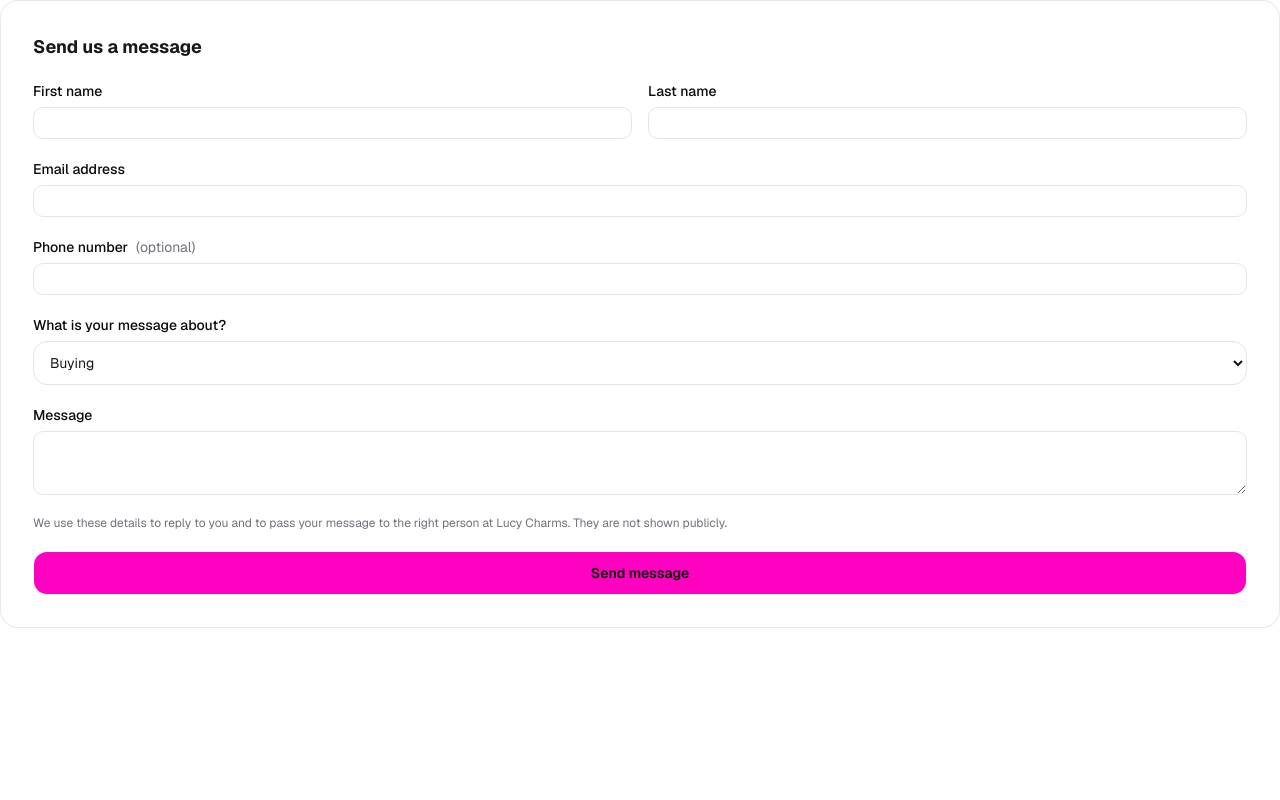
a duplicate submission says so instead of implying a second request
The image size is (1280, 800).
Type "Dana" into the field labelled "First name" at (332, 123), box [33,107,632,139]
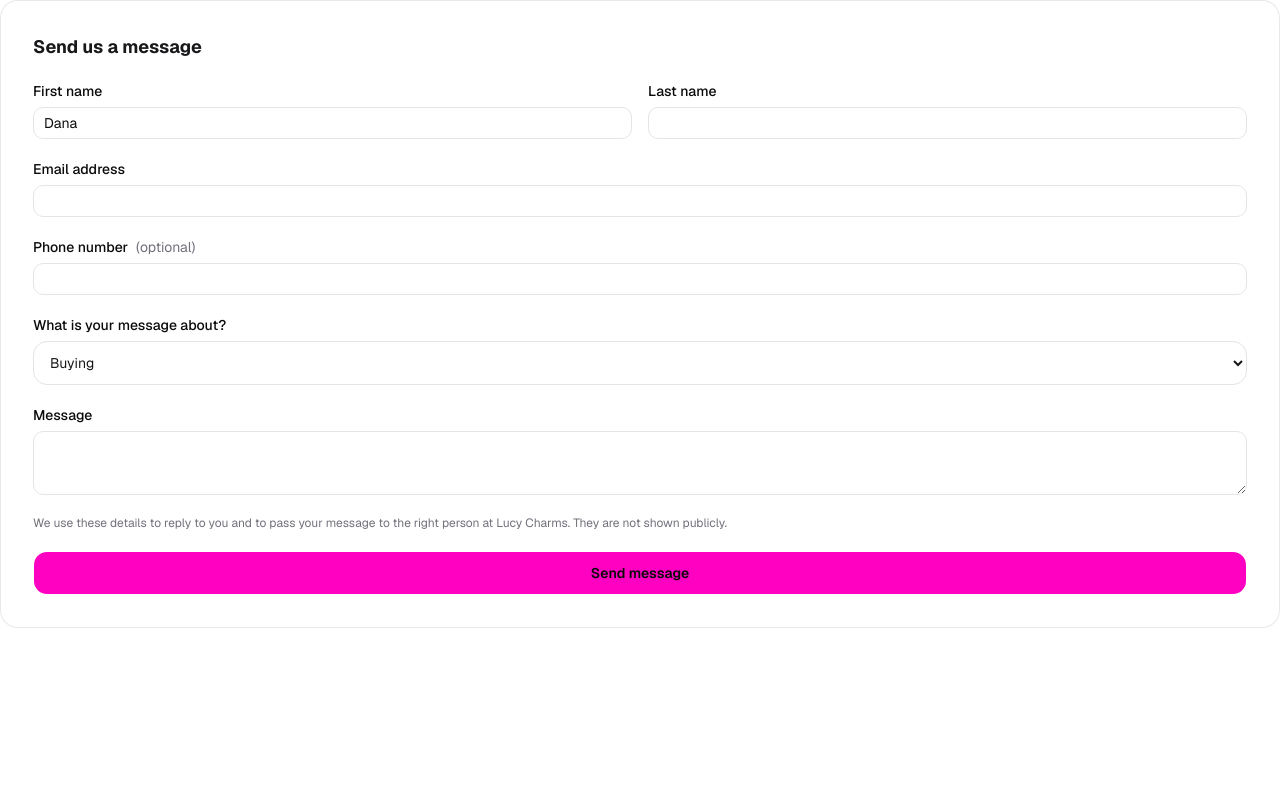
Type "Okafor" into the field labelled "Last name" at (948, 123), box [648,107,1247,139]
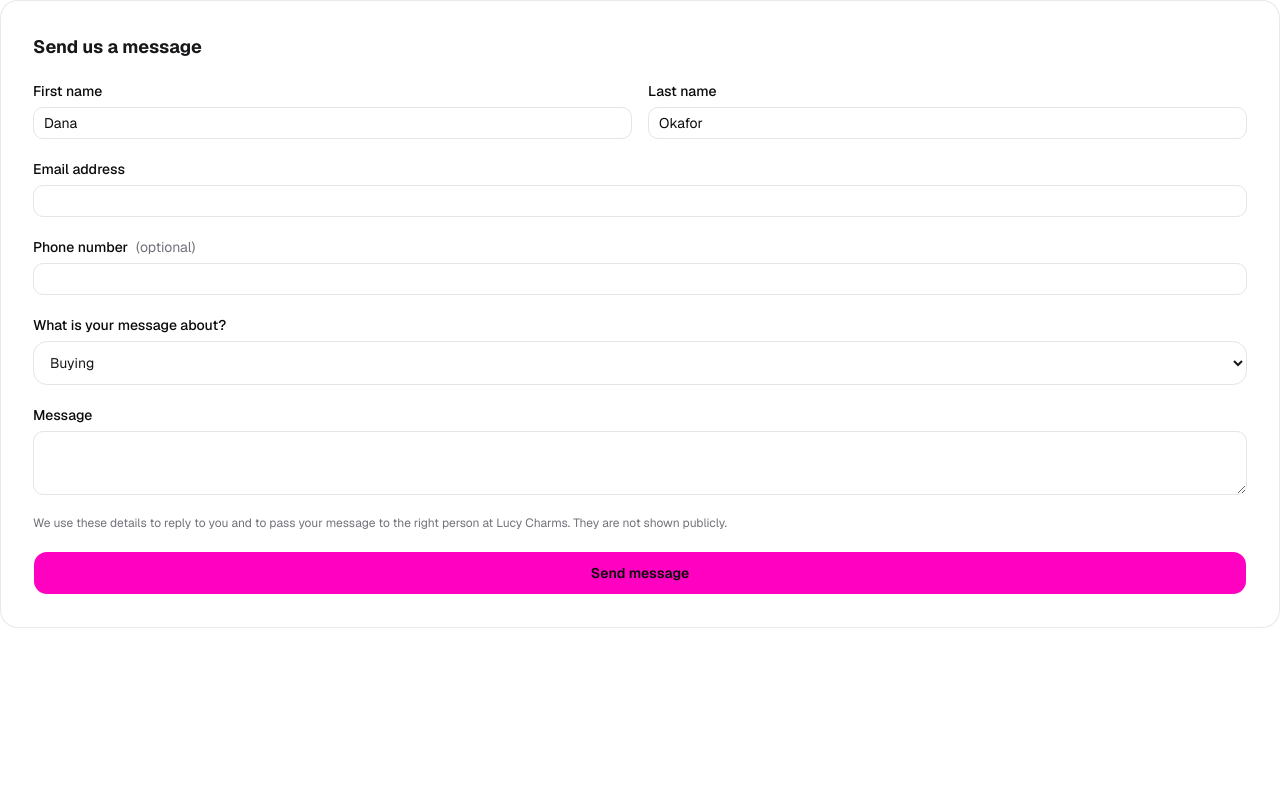
Type "dana.okafor@example.com" into the field labelled "Email address" at (640, 201), box [33,185,1247,217]
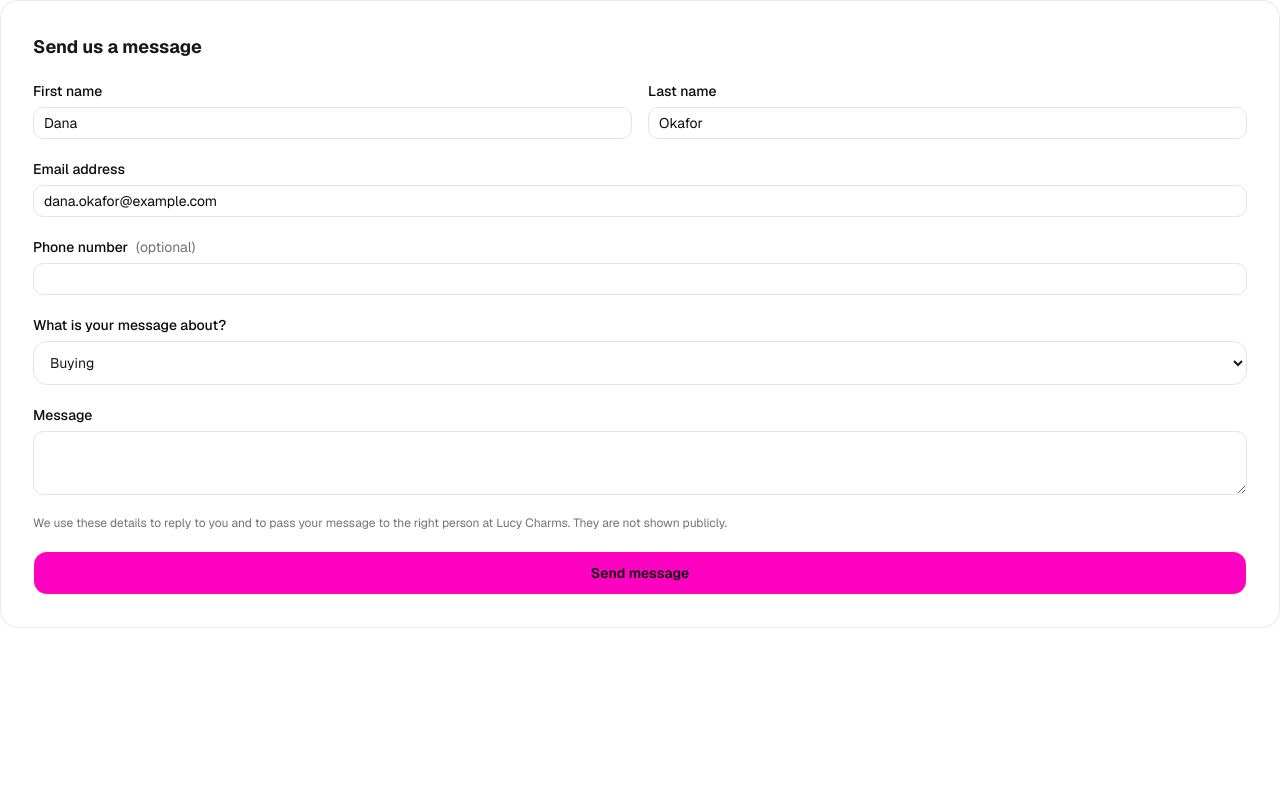
Type "I would like to know more about buying in Ottawa." into the text box labelled "Message" at (640, 463), box [33,431,1247,495]
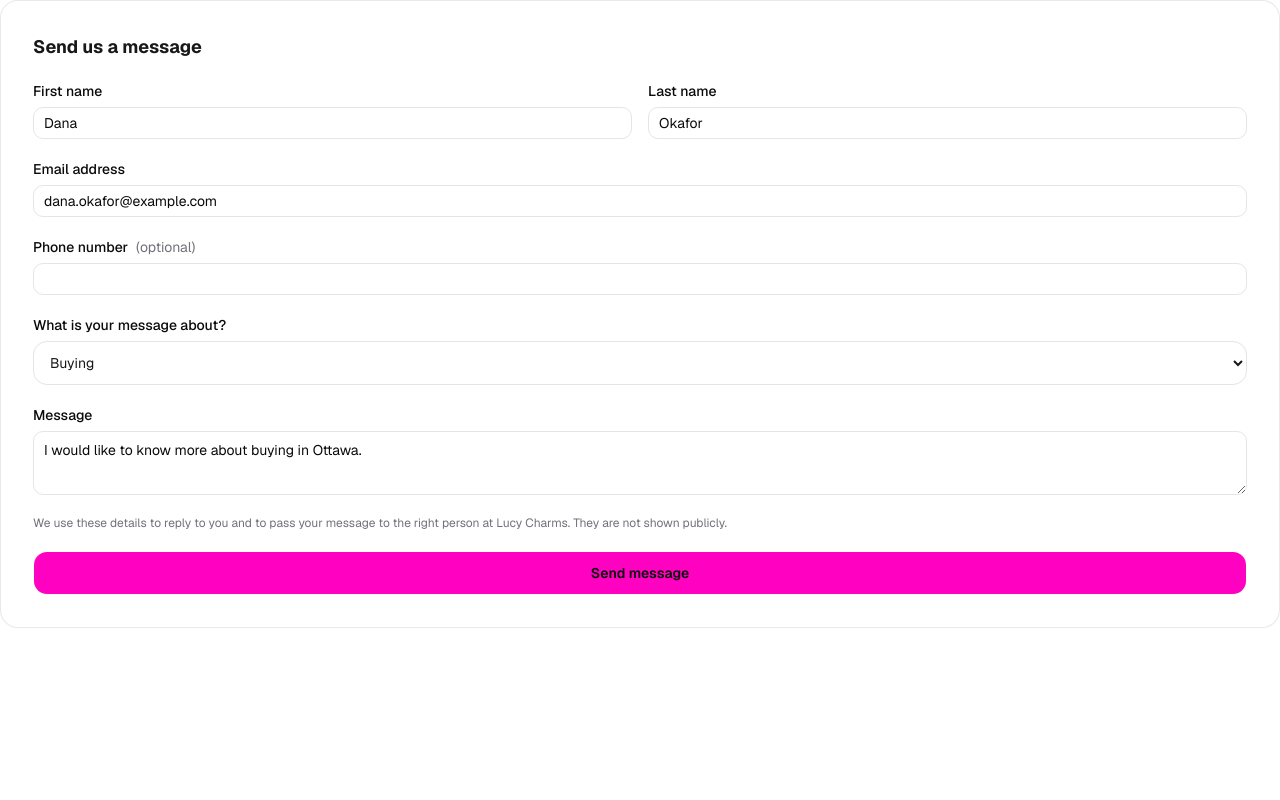
Click the button "Send message" at (640, 573), box [33,551,1247,595]
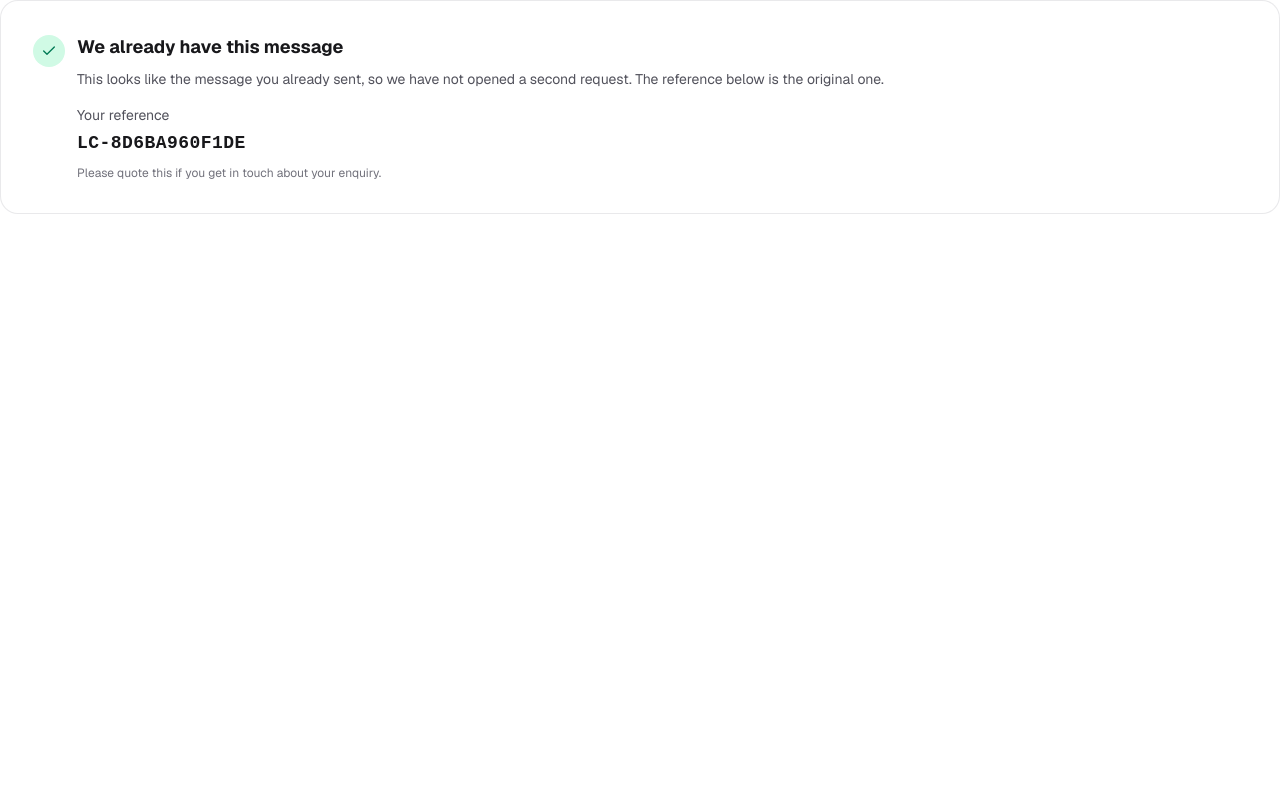
Expected: the heading "We already have this message" is shown, [77,35,343,58]
Expected: the text "not opened a second request" is shown, [77,70,884,88]
Expected: the text "LC-8D6BA960F1DE" is shown, [77,133,246,153]
